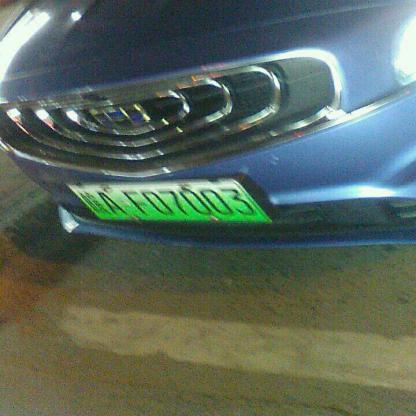lp: (69, 181, 271, 221)
